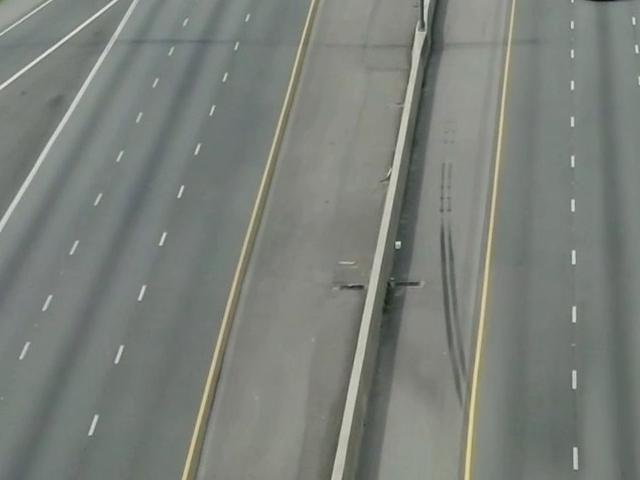car: (574, 0, 630, 10)
